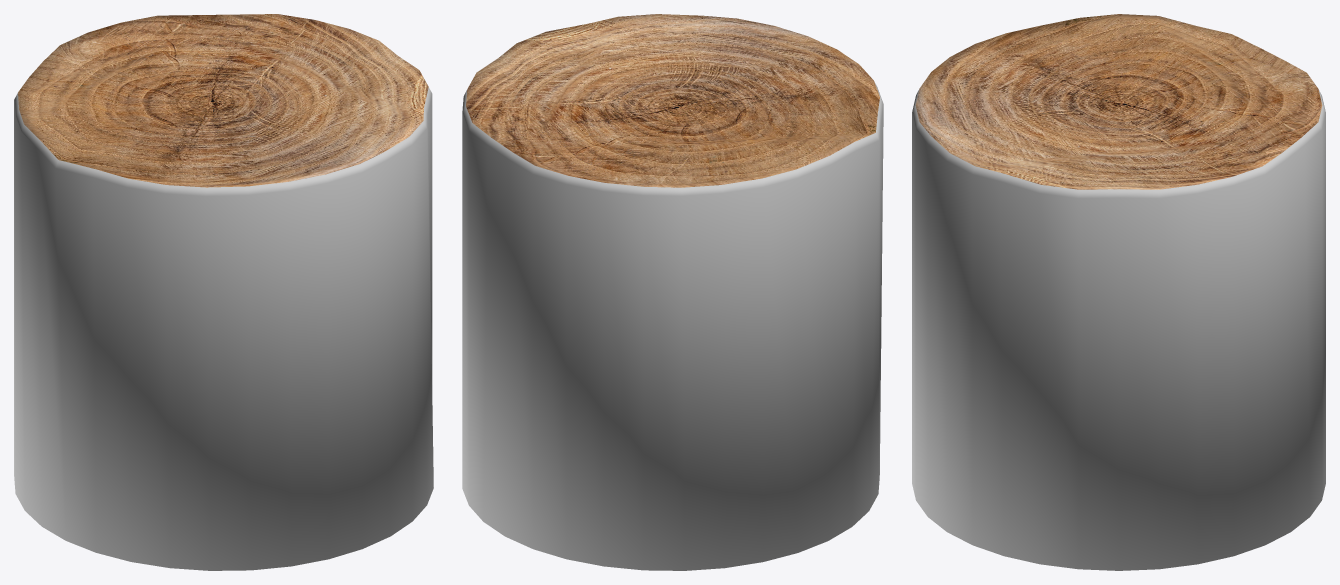
The model's file is treestump.fbx.
The picture shows the model from 3 angles, left to right: view 1: azimuth 30°, elevation 25°; view 2: azimuth 150°, elevation 25°; view 3: azimuth 270°, elevation 25°; orthographic projection.
Visible parts, largest first — view 1: Cylinder; view 2: Cylinder; view 3: Cylinder.
Part boxes in pixels (bbox=[...]): Cylinder: bbox=[14, 14, 433, 570]; Cylinder: bbox=[462, 14, 883, 570]; Cylinder: bbox=[912, 14, 1325, 570].
Size of the model in its own units: 204 by 203 by 200.
